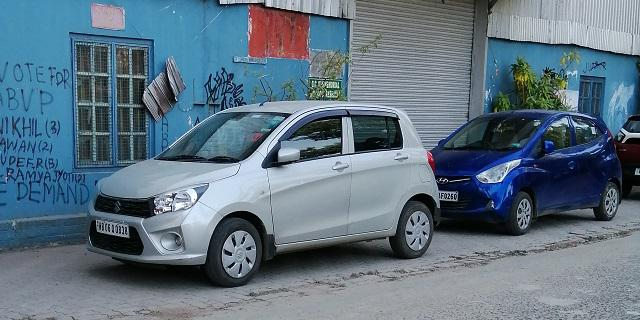Car: (84, 100, 441, 283), (428, 106, 630, 232)
